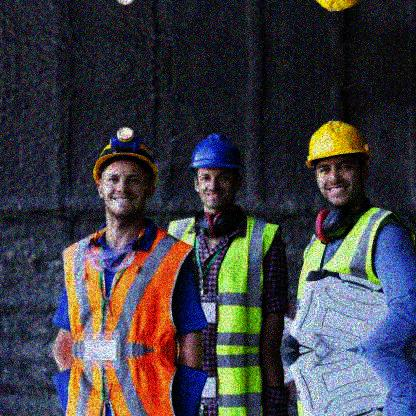helmet: (90, 125, 161, 219), (302, 118, 374, 205), (187, 132, 248, 208)
